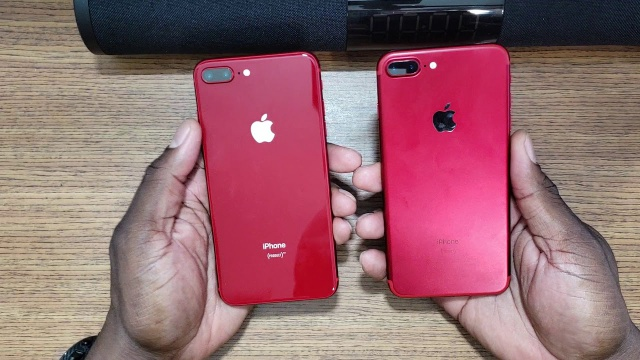apple: (241, 107, 296, 149), (425, 98, 460, 150)
